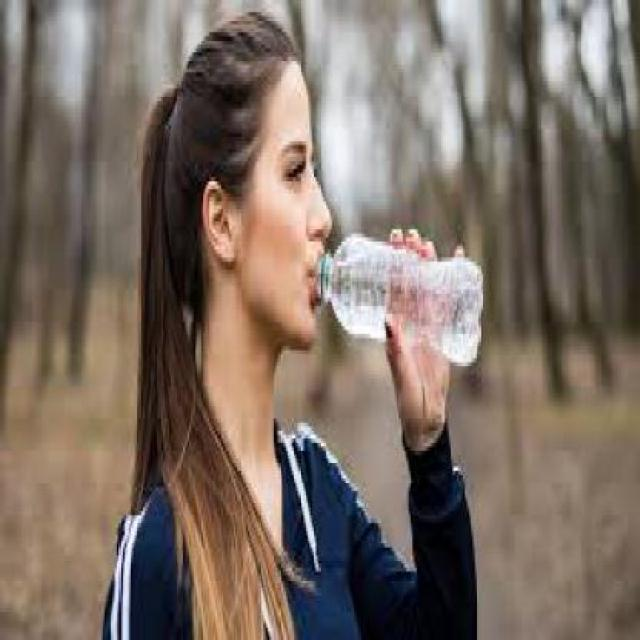Drinking: (318, 213, 484, 390)
